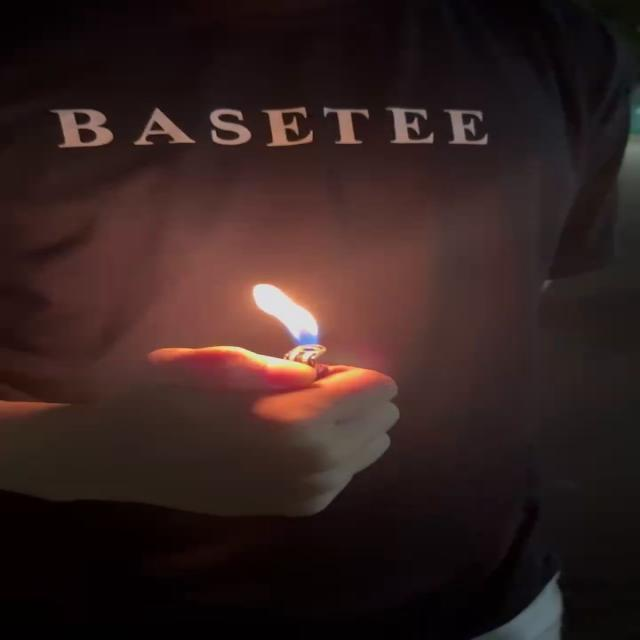Fire: (252, 283, 340, 353)
